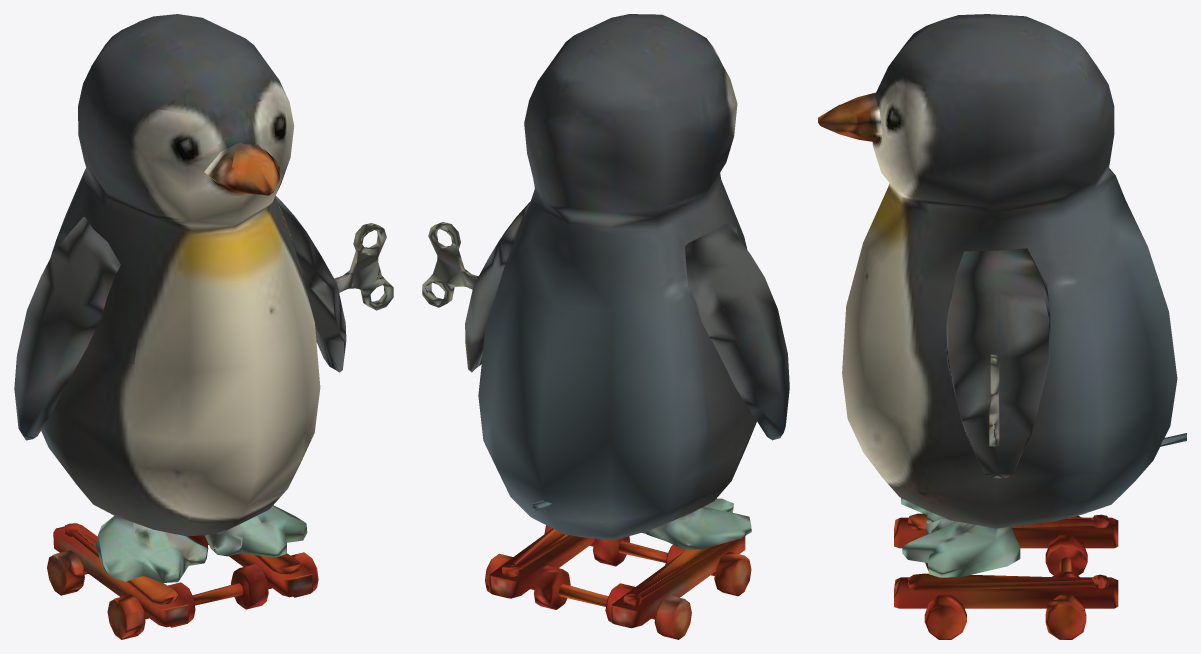
File: penguin-09-22-roller-skate-tin-penguin.gltf
3 renders of one model, left to right at view 1: azimuth 30°, elevation 25°; view 2: azimuth 150°, elevation 25°; view 3: azimuth 270°, elevation 25°, orthographic.
Parts seen in each view (by area): view 1: penguin-09-22-roller-skate-tin-penguin; view 2: penguin-09-22-roller-skate-tin-penguin; view 3: penguin-09-22-roller-skate-tin-penguin.
Part boxes in pixels (<box>): penguin-09-22-roller-skate-tin-penguin: <box>14,14,393,639</box>; penguin-09-22-roller-skate-tin-penguin: <box>422,14,789,639</box>; penguin-09-22-roller-skate-tin-penguin: <box>818,14,1186,639</box>.
Size of the model in its own units: 0.1989 by 0.2947 by 0.1736.
Materials: 1 (1 with a texture image).
